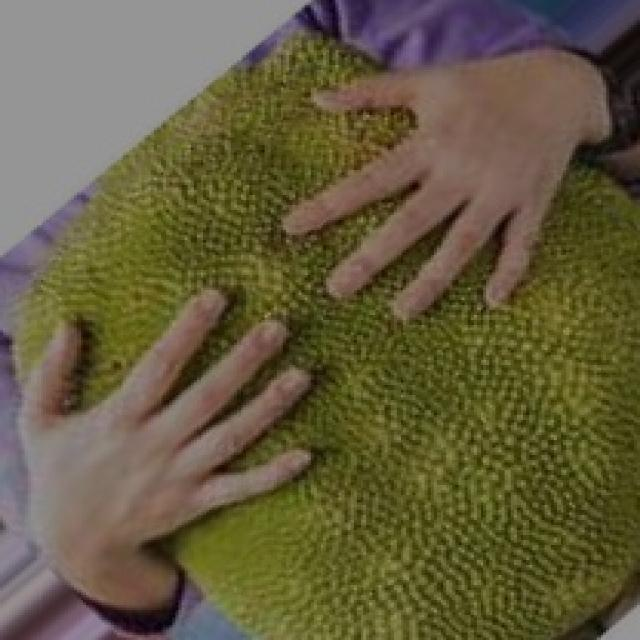Fruit: (231, 225, 640, 640), (61, 2, 477, 302)
